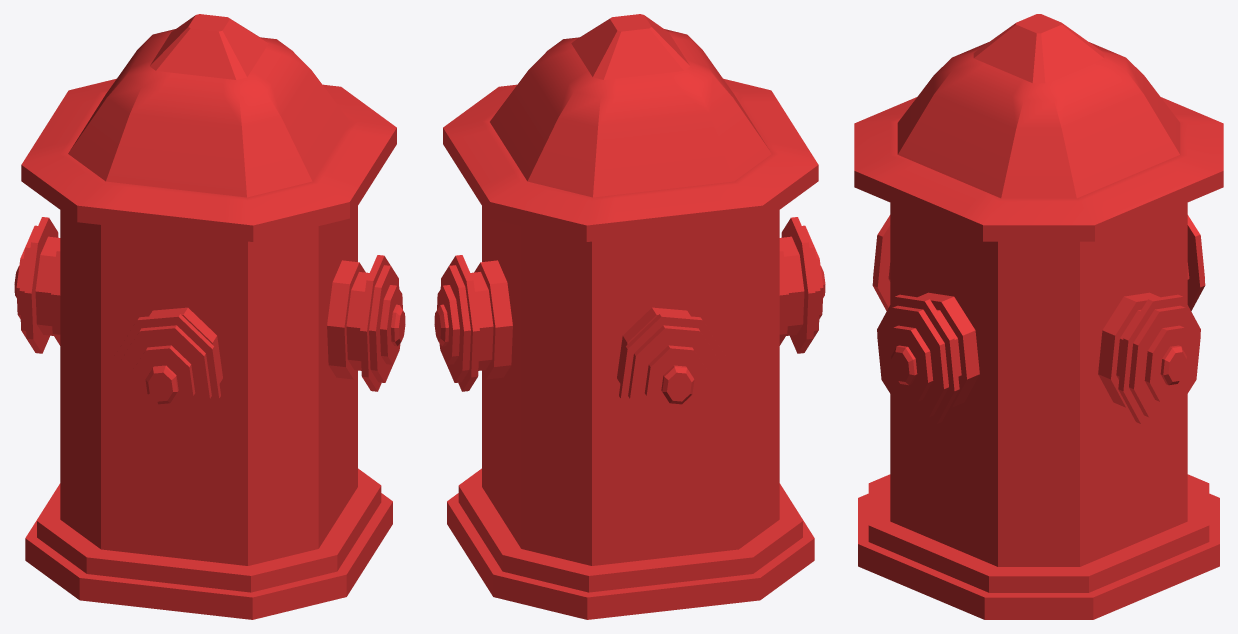
The model's file is FIRE_HYDRANT_RAW.fbx.
3 views of the same model, side by side, from view 1: azimuth 30°, elevation 25°; view 2: azimuth 150°, elevation 25°; view 3: azimuth 270°, elevation 25° (orthographic).
Parts seen in each view (by area): view 1: fire_hydrant; view 2: fire_hydrant; view 3: fire_hydrant.
Part boxes in pixels (x1=…): fire_hydrant: x1=14, y1=14, x2=405, y2=619; fire_hydrant: x1=434, y1=14, x2=825, y2=619; fire_hydrant: x1=854, y1=14, x2=1223, y2=619.
Bounding box in the file's own units: 13.09 × 20.32 × 13.09.
